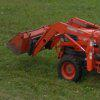Tractor: (18, 12, 100, 76)
